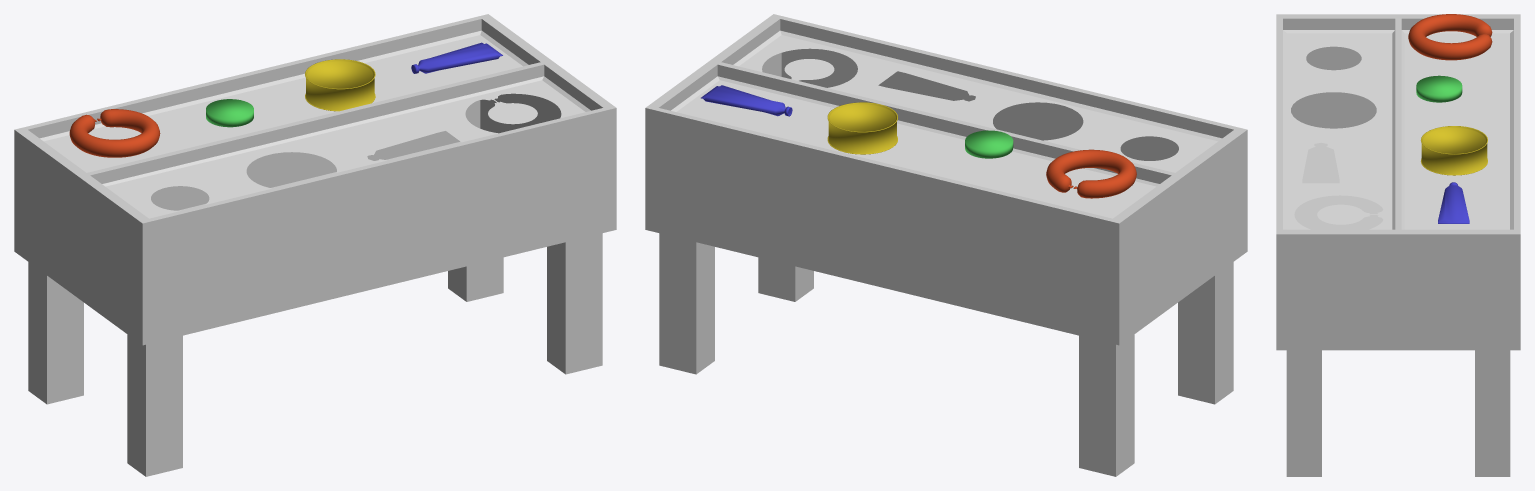
The model's file is tutorial_grip_exercise.fbx.
The picture shows the model from 3 angles, left to right: view 1: azimuth 30°, elevation 25°; view 2: azimuth 150°, elevation 25°; view 3: azimuth 270°, elevation 25°; orthographic projection. The views are drawn at different scales.
Visible parts, largest first — view 1: Table, Falukorv_hole, Surströmming_hole, Kaviar_hole, Kanelbulle_hole, Surströmming, Falukorv, Kaviar, Kanelbulle; view 2: Table, Falukorv_hole, Surströmming_hole, Kanelbulle_hole, Kaviar_hole, Surströmming, Falukorv, Kaviar, Kanelbulle; view 3: Table, Kanelbulle_hole, Kaviar_hole, Surströmming_hole, Falukorv_hole, Surströmming, Falukorv, Kanelbulle, Kaviar.
Part boxes in pixels (x1,y1,x2,y2): Table: (14,14,616,476); Falukorv_hole: (369,35,585,139); Surströmming_hole: (148,89,361,193); Kaviar_hole: (257,62,473,166); Kanelbulle_hole: (44,126,250,218); Surströmming: (305,59,375,111); Falukorv: (69,109,160,157); Kaviar: (411,42,502,73); Kanelbulle: (206,99,253,127); Table: (645,14,1247,476); Falukorv_hole: (676,35,892,139); Surströmming_hole: (900,89,1116,193); Kanelbulle_hole: (1011,116,1217,218); Kaviar_hole: (788,62,1004,166); Surströmming: (827,102,897,154); Falukorv: (1046,149,1136,198); Kaviar: (701,85,792,116); Kanelbulle: (965,130,1013,158); Table: (1276,14,1520,476); Kanelbulle_hole: (1287,33,1509,85); Kaviar_hole: (1287,137,1509,188); Surströmming_hole: (1287,85,1509,136); Falukorv_hole: (1287,189,1509,229); Surströmming: (1421,126,1487,175); Falukorv: (1408,14,1492,60); Kanelbulle: (1416,75,1462,102); Kaviar: (1438,182,1469,223).
Size of the model in its own units: 195 by 108 by 91.19.
